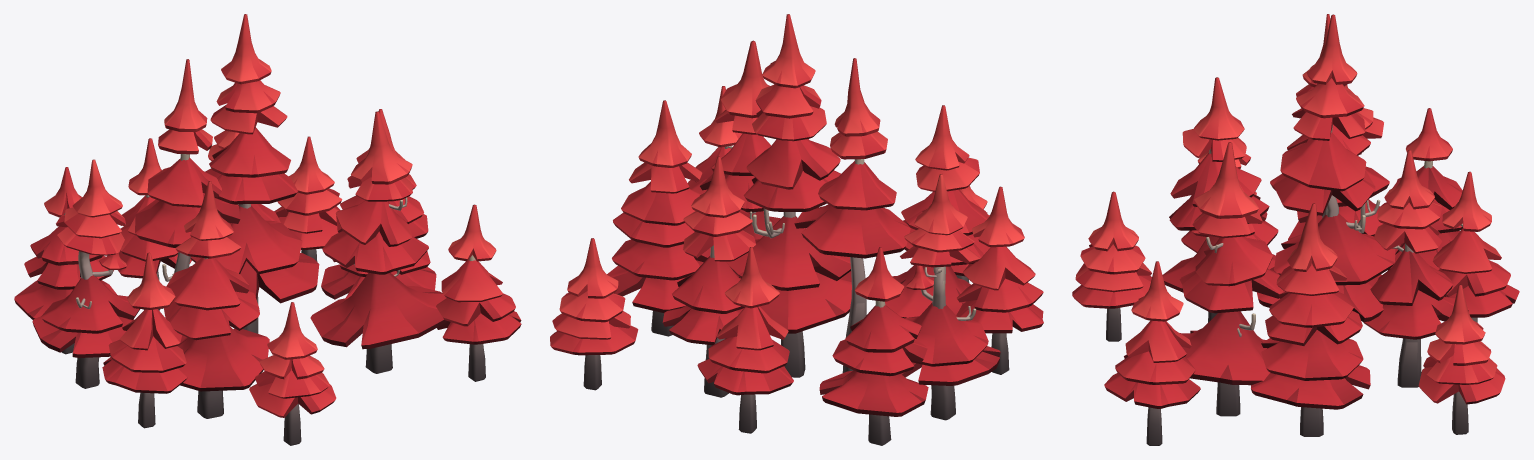
Rendered from pine_tree_arrangement_col3.fbx.
The picture shows the model from 3 angles, left to right: view 1: azimuth 30°, elevation 25°; view 2: azimuth 150°, elevation 25°; view 3: azimuth 270°, elevation 25°; orthographic projection. The views are drawn at different scales.
Visible parts, largest first — view 1: pine_tree_arrangement_col3; view 2: pine_tree_arrangement_col3; view 3: pine_tree_arrangement_col3.
Boxes of the visible parts, <box> form: pine_tree_arrangement_col3: <box>14,14,521,445</box>; pine_tree_arrangement_col3: <box>550,14,1043,445</box>; pine_tree_arrangement_col3: <box>1072,14,1519,445</box>.
Bounding box in the file's own units: 1859 × 1573 × 1789.
Materials: 1 (1 with a texture image).
